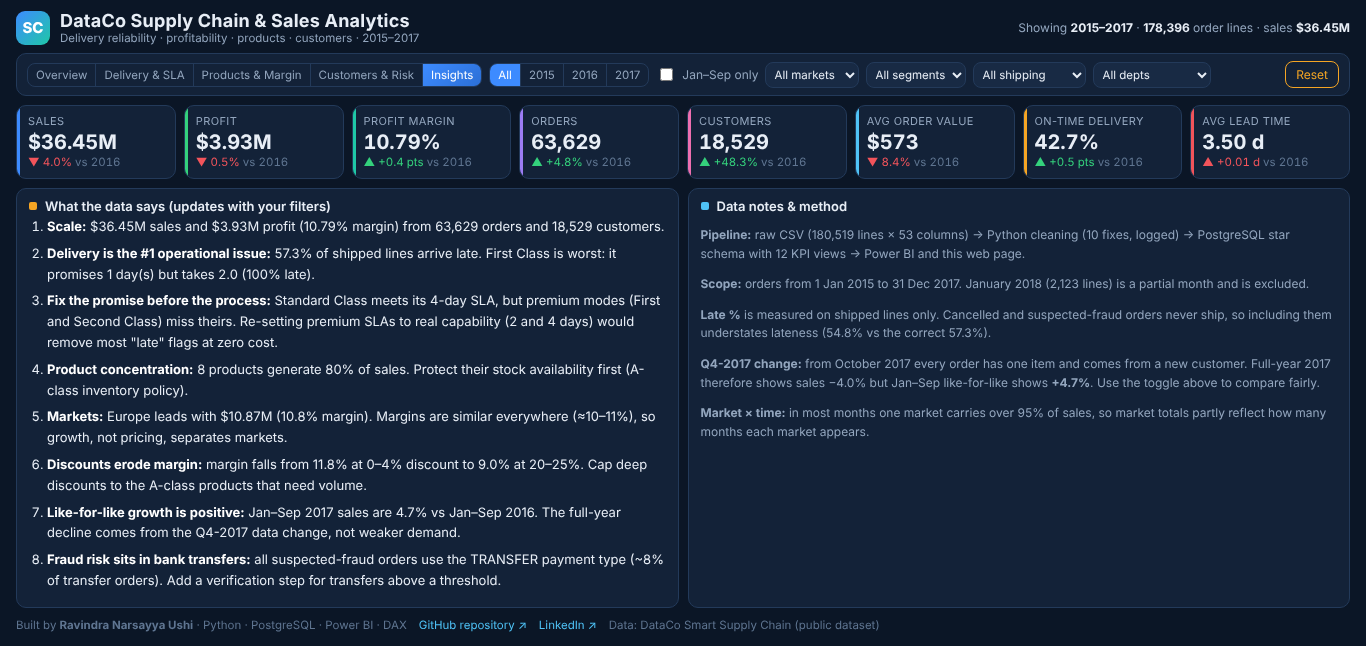

The dashboard page shown, as its layout file describes it:
{"tool":"powerbi","page":{"name":"Insight","canvas":[1920,1080],"ordinal":4},"visuals":[{"type":"textbox","box":[488,0,940.8,83.2],"z":0},{"type":"group","id":"g1","title":"Group 10","box":[0,88.6,178.6,991.4],"z":0,"group":"g2"},{"type":"shape","box":[0,88.6,178,991.4],"z":500,"group":"g1"},{"type":"textbox","box":[535.5,42.7,849.1,40.5],"z":1000},{"type":"image","box":[6.4,277.3,49.8,40.5],"z":1000,"group":"g2"},{"type":"image","box":[0,0,264.5,83.2],"z":2000},{"type":"slicer","fields":{"Values":["DateTable.Date"]},"box":[1606.7,94.3,292,100],"z":2000},{"type":"image","box":[4.3,193.1,39.9,50.6],"z":2000,"group":"g2"},{"type":"image","box":[1578.7,0,341.3,93.9],"z":3000},{"type":"image","box":[6.4,361.5,39.9,50.6],"z":3000,"group":"g2"},{"type":"cardVisual","fields":{"Data":["public dataco_raw.Profit Margin"]},"box":[1920,114.3,192.9,85.7],"z":4000},{"type":"image","box":[6.4,443.5,39.9,50.6],"z":4000,"group":"g2"},{"type":"clusteredBarChart","fields":{"Category":["Insight KPI.KPI"],"Y":["public dataco_raw.Insight YoY %"]},"box":[190,232.9,797.9,563.2],"z":5000},{"type":"image","box":[10.6,519,39.9,50.6],"z":5000,"group":"g2"},{"type":"cardVisual","fields":{"Data":["public dataco_raw.Dynamic Business Findings"]},"box":[1042.9,232.9,772.3,563.2],"z":6000},{"type":"group","id":"g2","title":"Group 11","box":[0,88.6,178.6,991.4],"z":8000},{"type":"pageNavigator","box":[0,177.8,178.6,481.3],"z":22000,"group":"g1"},{"type":"cardVisual","fields":{"Data":["Sum(public dataco_raw.Sales)"]},"box":[190,100.9,193,85],"z":31000},{"type":"cardVisual","fields":{"Data":["Sum(public dataco_raw.Order Profit Per Order)"]},"box":[396.7,100.9,193,85],"z":33000},{"type":"cardVisual","fields":{"Data":["Count(public dataco_raw.Order Id)"]},"box":[600,100.9,193,85],"z":35000},{"type":"cardVisual","fields":{"Data":["Count(public dataco_raw.Customer Id)"]},"box":[803,100.9,193,85],"z":37000},{"type":"cardVisual","fields":{"Data":["public dataco_raw.AOV"]},"box":[1005,100.9,193,85],"z":39000},{"type":"cardVisual","fields":{"Data":["public dataco_raw.Profit Margin"]},"box":[1208.3,100.9,193,85.7],"z":41000},{"type":"cardVisual","fields":{"Data":["public dataco_raw.Late Delivery %"]},"box":[1408.3,100.9,193,85.7],"z":44000}]}

Visuals, with their boxes on the page's 1920x1080 design canvas (x1, y1, x2, y2). These are canvas units, not pixel positions in the 1366x646 screenshot, which may show the page scaled, cropped or inside an application window:
textbox: detection(488, 0, 1429, 83)
"Group 10" group: detection(0, 89, 179, 1080)
shape: detection(0, 89, 178, 1080)
textbox: detection(536, 43, 1385, 83)
image: detection(6, 277, 56, 318)
image: detection(0, 0, 264, 83)
slicer - DateTable.Date: detection(1607, 94, 1899, 194)
image: detection(4, 193, 44, 244)
image: detection(1579, 0, 1920, 94)
image: detection(6, 362, 46, 412)
cardVisual - public dataco_raw.Profit Margin: detection(1920, 114, 2113, 200)
image: detection(6, 444, 46, 494)
clusteredBarChart - Insight KPI.KPI x public dataco_raw.Insight YoY %: detection(190, 233, 988, 796)
image: detection(11, 519, 50, 570)
cardVisual - public dataco_raw.Dynamic Business Findings: detection(1043, 233, 1815, 796)
"Group 11" group: detection(0, 89, 179, 1080)
pageNavigator: detection(0, 178, 179, 659)
cardVisual - Sum(public dataco_raw.Sales): detection(190, 101, 383, 186)
cardVisual - Sum(public dataco_raw.Order Profit Per Order): detection(397, 101, 590, 186)
cardVisual - Count(public dataco_raw.Order Id): detection(600, 101, 793, 186)
cardVisual - Count(public dataco_raw.Customer Id): detection(803, 101, 996, 186)
cardVisual - public dataco_raw.AOV: detection(1005, 101, 1198, 186)
cardVisual - public dataco_raw.Profit Margin: detection(1208, 101, 1401, 187)
cardVisual - public dataco_raw.Late Delivery %: detection(1408, 101, 1601, 187)
